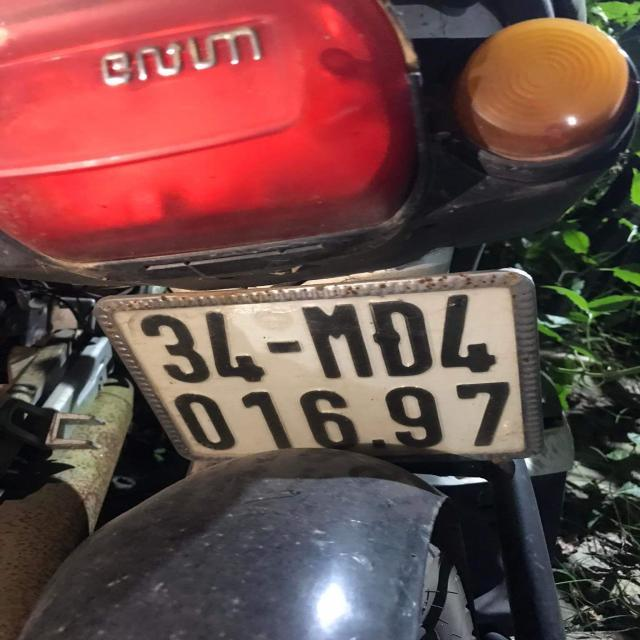0: (173, 388, 238, 462)
1: (240, 388, 294, 452)
3: (140, 310, 210, 386)
4: (434, 289, 504, 376)
6: (295, 384, 359, 450)
7: (451, 378, 516, 449)
9: (380, 381, 444, 450)
D: (371, 295, 434, 380)
L: (206, 308, 268, 384)
M: (300, 295, 373, 383)
S: (138, 310, 210, 386)
